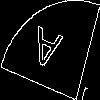A: (25, 25, 63, 81)
